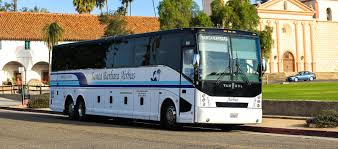bus: (49, 26, 265, 132)
